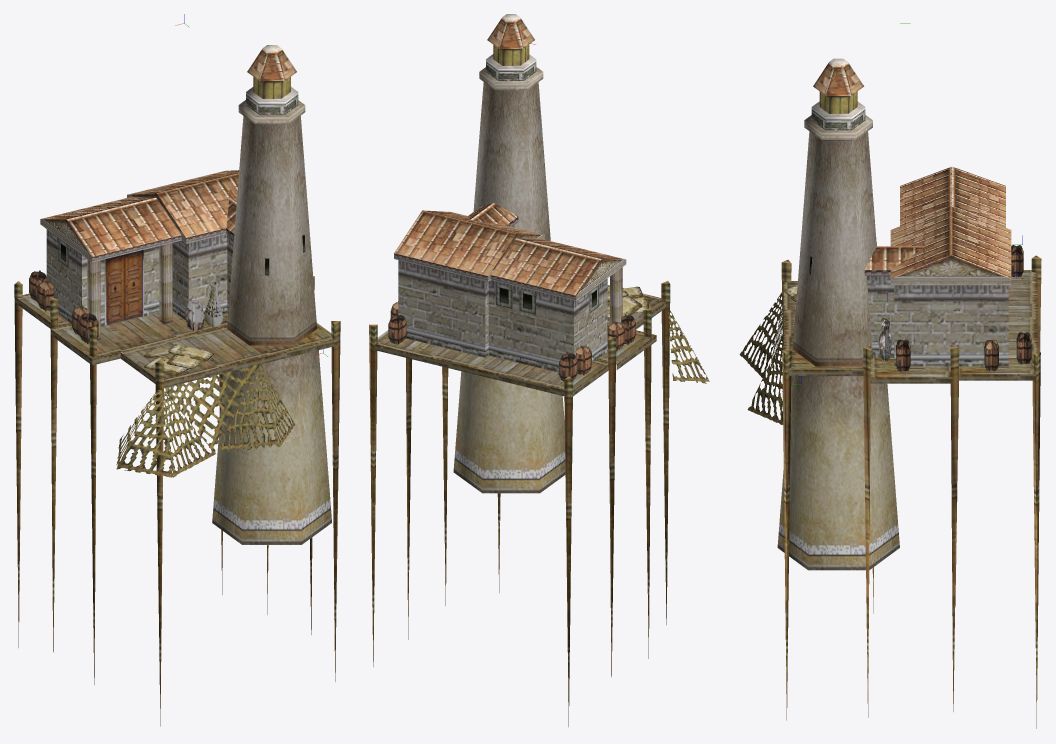
Rendered from age2.glb.
3 views of the same model, side by side, from view 1: azimuth 30°, elevation 25°; view 2: azimuth 150°, elevation 25°; view 3: azimuth 270°, elevation 25° (orthographic). The views are drawn at different scales.
Visible parts, largest first — view 1: building g tradedockage2Model; view 2: building g tradedockage2Model; view 3: building g tradedockage2Model.
Boxes of the visible parts, x1,y1,x2,y2 form: building g tradedockage2Model: [14, 45, 340, 726]; building g tradedockage2Model: [369, 14, 709, 726]; building g tradedockage2Model: [739, 58, 1041, 728].
Size of the model in its own units: 6.64 by 17.31 by 7.06.
6 materials, 5 textured.
